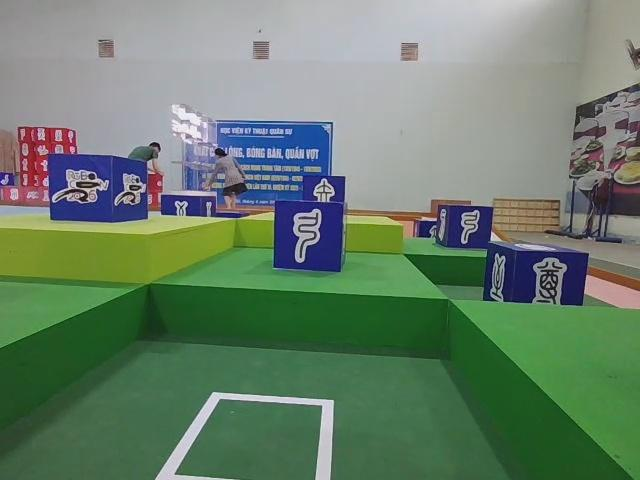R1 Blue: (45, 153, 146, 223)
R2 Fake Blue: (486, 242, 592, 308), (271, 199, 346, 274), (438, 204, 495, 250), (303, 174, 347, 203)
R2 Real Blue: (159, 194, 219, 218)
